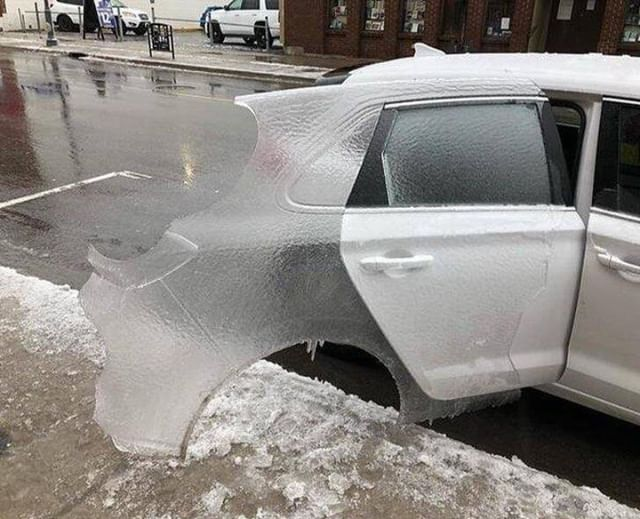building: (290, 1, 640, 58)
car: (332, 61, 640, 457)
ice: (90, 80, 403, 485)
street: (10, 50, 342, 313)
